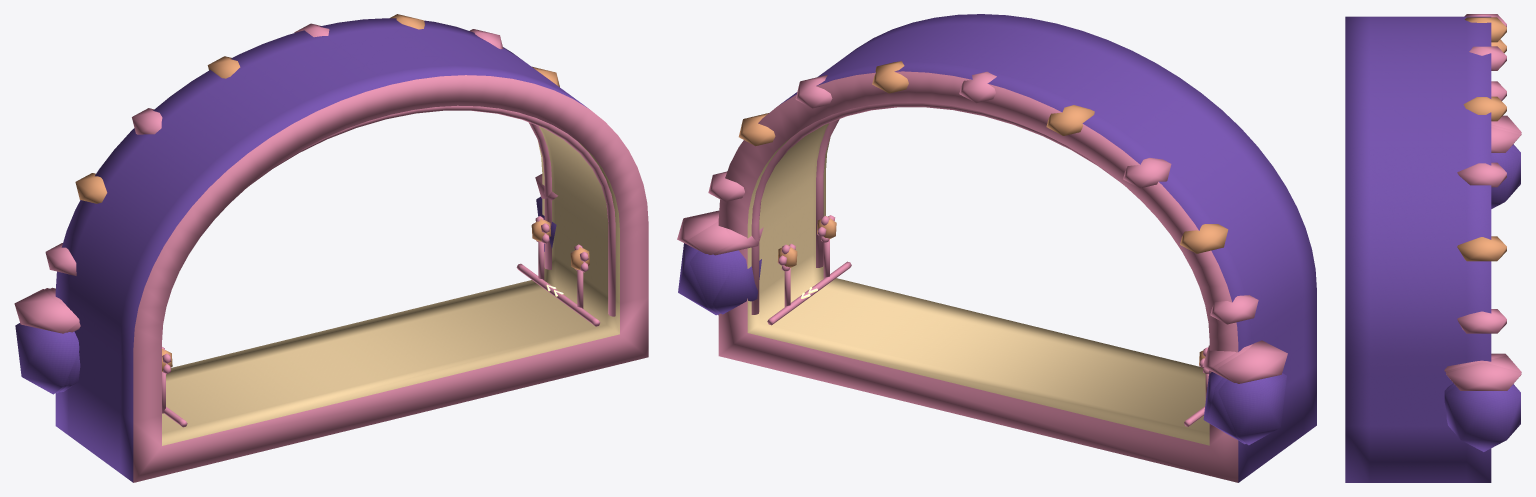
The model's file is portal_exit_lod1.glb.
The picture shows the model from 3 angles, left to right: view 1: azimuth 30°, elevation 25°; view 2: azimuth 150°, elevation 25°; view 3: azimuth 270°, elevation 25°; orthographic projection. The views are drawn at different scales.
Parts seen in each view (by area): view 1: TunnelGeometry.001; view 2: TunnelGeometry.001; view 3: TunnelGeometry.001.
Part boxes in pixels (<box>): TunnelGeometry.001: <box>14,14,648,482</box>; TunnelGeometry.001: <box>677,14,1316,482</box>; TunnelGeometry.001: <box>1345,14,1521,482</box>.
Bounding box in the file's own units: 17.61 × 9.62 × 4.84.
5 materials, 2 textured.
